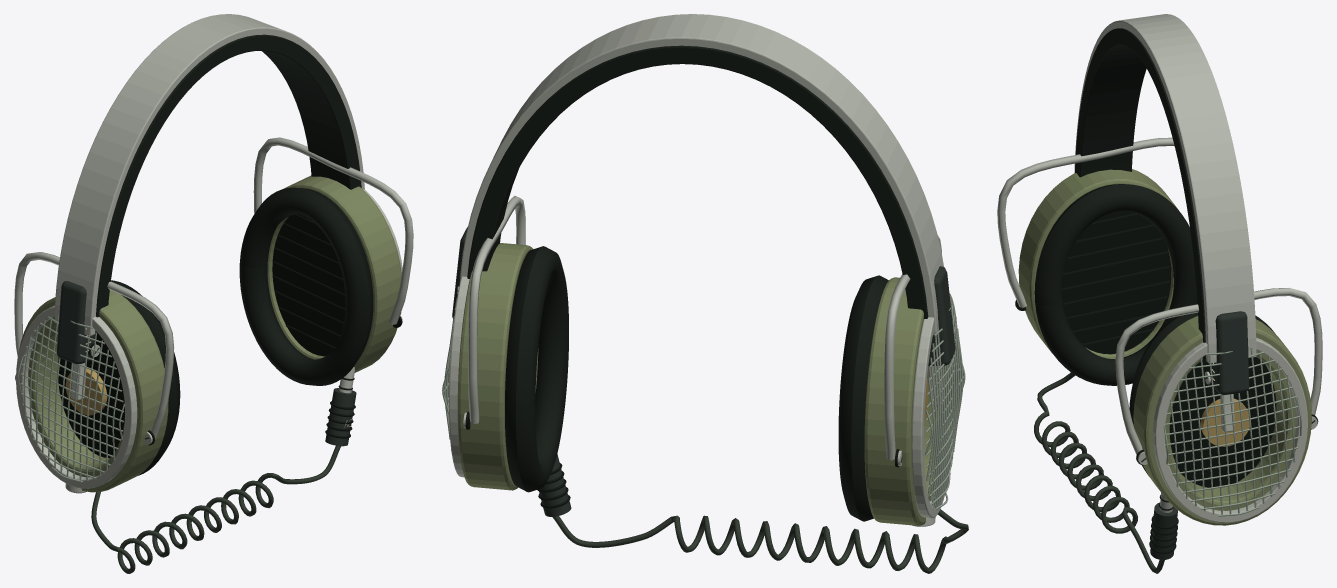
Rendered from headphones-open.glb.
The picture shows the model from 3 angles, left to right: view 1: azimuth 30°, elevation 25°; view 2: azimuth 150°, elevation 25°; view 3: azimuth 270°, elevation 25°; orthographic projection. The views are drawn at different scales.
Visible parts, largest first — view 1: hollow-earcup-shell (×2), spring-steel-headband, open-ear-cushion (×2), padded-headband, recessed-driver-diaphragm (×2), floating-fork-yoke (×2), open-back-grille-rim, continuous-coiled-lead, height-adjustment-block, machined-barrel, visible-motor-cap; view 2: hollow-earcup-shell (×2), open-ear-cushion (×2), spring-steel-headband, padded-headband, continuous-coiled-lead, floating-fork-yoke (×2), open-back-grille-rim (×2), height-adjustment-block, machined-barrel; view 3: spring-steel-headband, recessed-driver-diaphragm (×2), hollow-earcup-shell (×2), open-ear-cushion (×2), padded-headband, floating-fork-yoke (×2), open-back-grille-rim, continuous-coiled-lead, height-adjustment-block, visible-motor-cap, machined-barrel.
Part boxes in pixels (box(x1,y1,x2,y2)): hollow-earcup-shell (×2): box(18, 175, 401, 492); spring-steel-headband: box(54, 14, 364, 335); open-ear-cushion (×2): box(111, 187, 373, 475); padded-headband: box(95, 34, 361, 334); recessed-driver-diaphragm (×2): box(58, 214, 345, 458); floating-fork-yoke (×2): box(14, 137, 413, 438); open-back-grille-rim: box(16, 305, 137, 488); continuous-coiled-lead: box(91, 445, 340, 573); height-adjustment-block: box(56, 281, 95, 364); machined-barrel: box(325, 388, 356, 446); visible-motor-cap: box(65, 368, 107, 415); hollow-earcup-shell (×2): box(457, 243, 946, 525); open-ear-cushion (×2): box(505, 246, 888, 521); spring-steel-headband: box(460, 14, 943, 335); padded-headband: box(467, 45, 928, 318); continuous-coiled-lead: box(552, 509, 968, 573); floating-fork-yoke (×2): box(468, 196, 941, 460); open-back-grille-rim (×2): box(449, 276, 956, 518); height-adjustment-block: box(928, 266, 955, 366); machined-barrel: box(539, 454, 571, 516); spring-steel-headband: box(1074, 14, 1256, 363); recessed-driver-diaphragm (×2): box(1062, 211, 1276, 487); hollow-earcup-shell (×2): box(1018, 169, 1311, 525); open-ear-cushion (×2): box(1034, 184, 1275, 475); padded-headband: box(1075, 28, 1206, 361); floating-fork-yoke (×2): box(997, 137, 1322, 454); open-back-grille-rim: box(1153, 338, 1307, 522); continuous-coiled-lead: box(1034, 372, 1164, 573); height-adjustment-block: box(1211, 311, 1249, 394); visible-motor-cap: box(1200, 398, 1249, 446); machined-barrel: box(1150, 502, 1177, 559).
Bounding box in the file's own units: 1.66 × 1.93 × 1.17.
